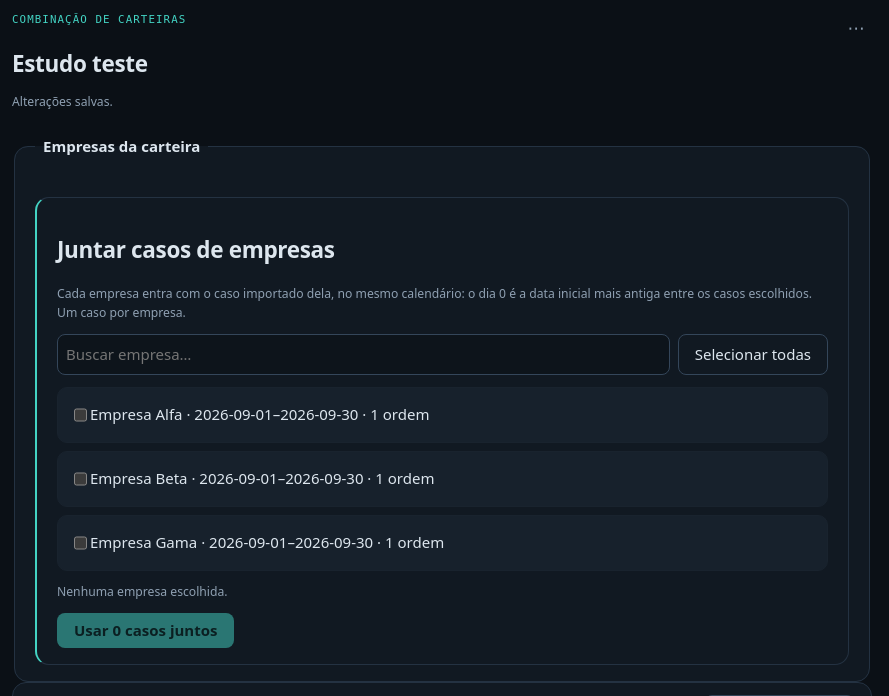
Test: StudyEditor › na combinação, busca empresas e mostra as escolhidas como chips removíveis
In the search field labelled "Buscar empresa": (363,354) [57, 334, 670, 374], type "gam"
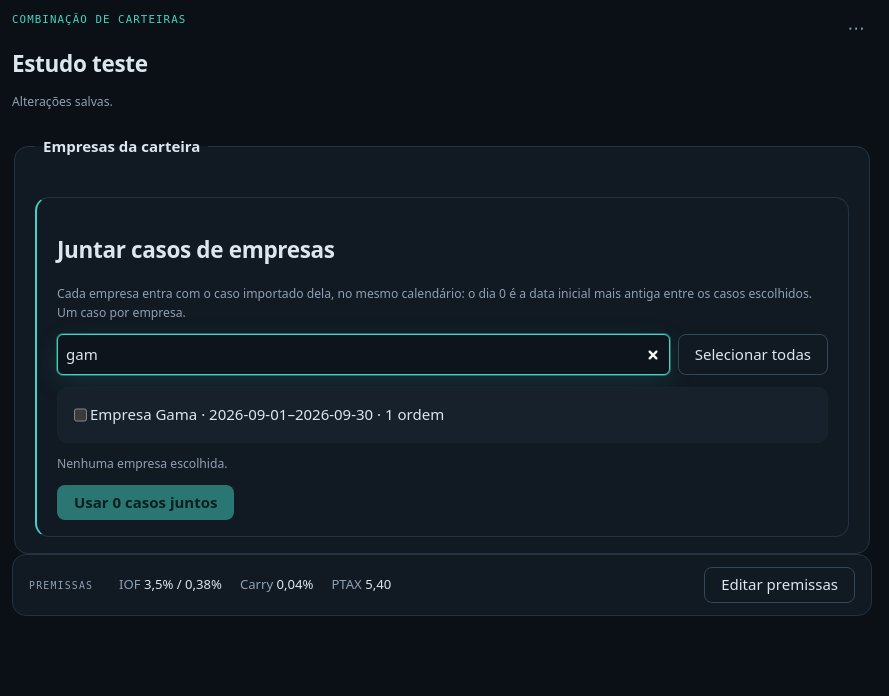
Check: the number of checkboxes is 1
Click the checkbox labelled "Empresa Gama · 2026-09-01–2026-09-30 · 1 ordem": (80,414) [74, 398, 87, 430]
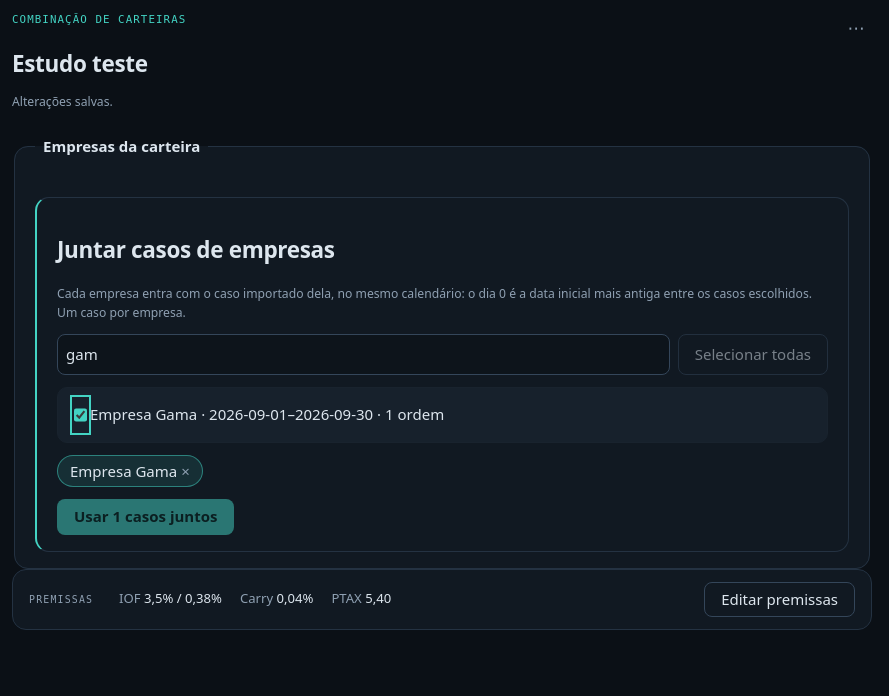
Clear the search field named "Buscar empresa": (363,354) [57, 334, 670, 374]
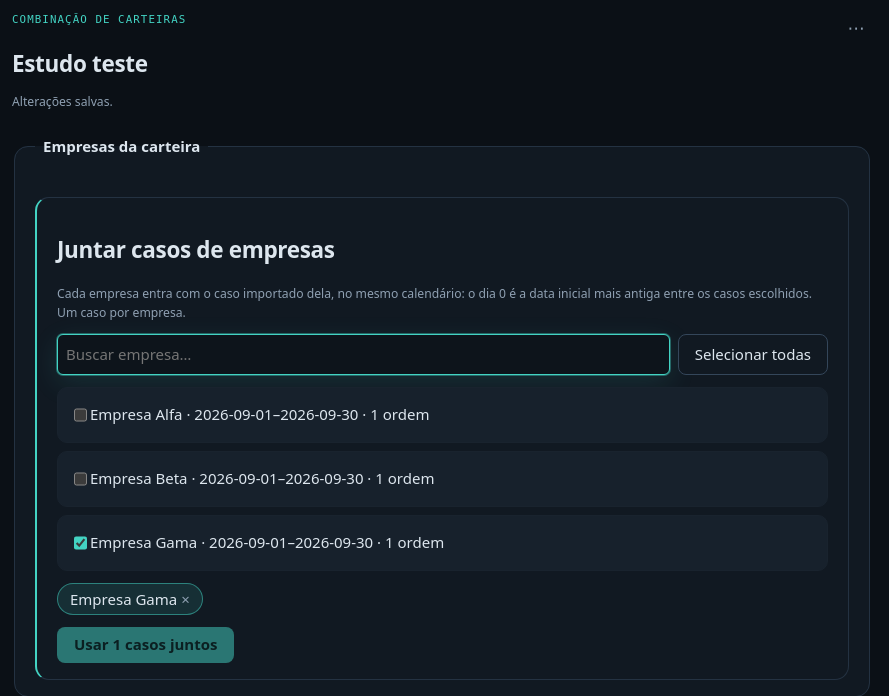
Click the button "Selecionar todas": (753,354) [678, 334, 828, 374]
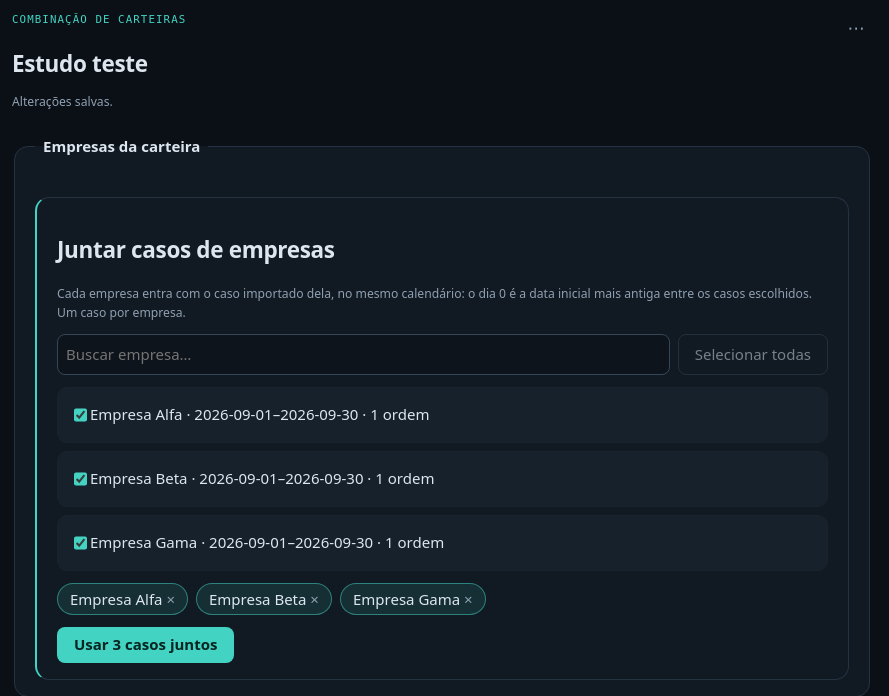
Check: the button "Usar 3 casos juntos" is enabled, box [57, 627, 234, 662]
Click the button with aria-label "Tirar Empresa Beta": (264,599) [196, 582, 332, 615]
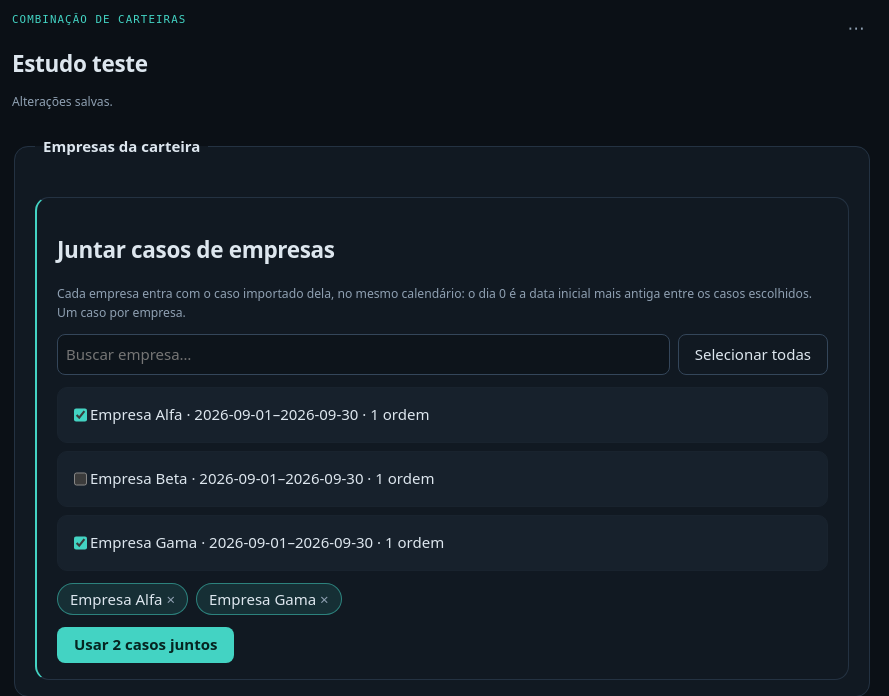
Check: the button "Usar 2 casos juntos" is enabled, box [57, 627, 234, 662]
Check: the checkbox labelled "Empresa Beta · 2026-09-01–2026-09-30 · 1 ordem" is not checked, box [74, 462, 87, 494]
